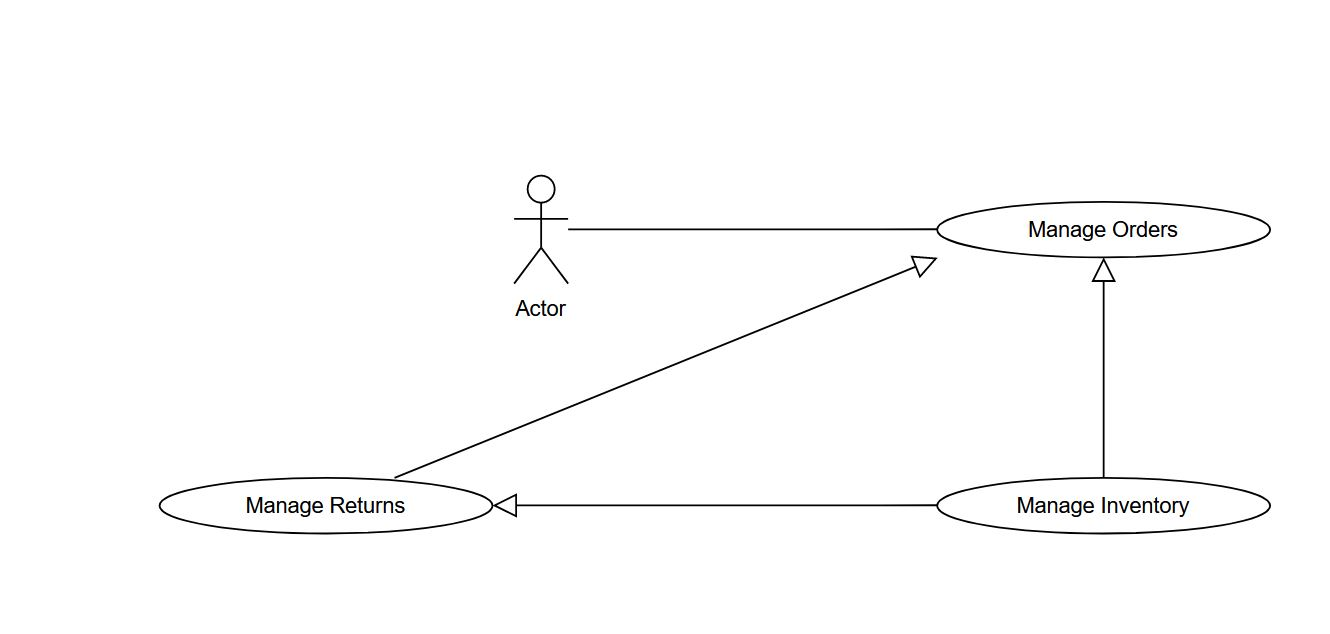actor: (514, 173, 570, 289)
association: (569, 217, 936, 237)
generalization: (397, 254, 940, 478), (494, 489, 939, 519), (1091, 258, 1119, 474)
text: (1009, 490, 1195, 520), (238, 488, 409, 519), (1023, 217, 1182, 241), (511, 299, 577, 319)
use_case: (934, 475, 1271, 537), (158, 475, 493, 537), (937, 200, 1270, 261)
